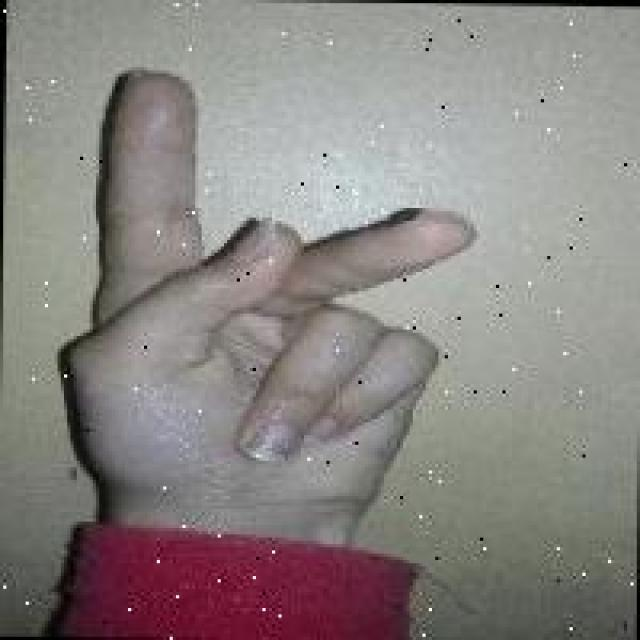K: (46, 62, 504, 530)
